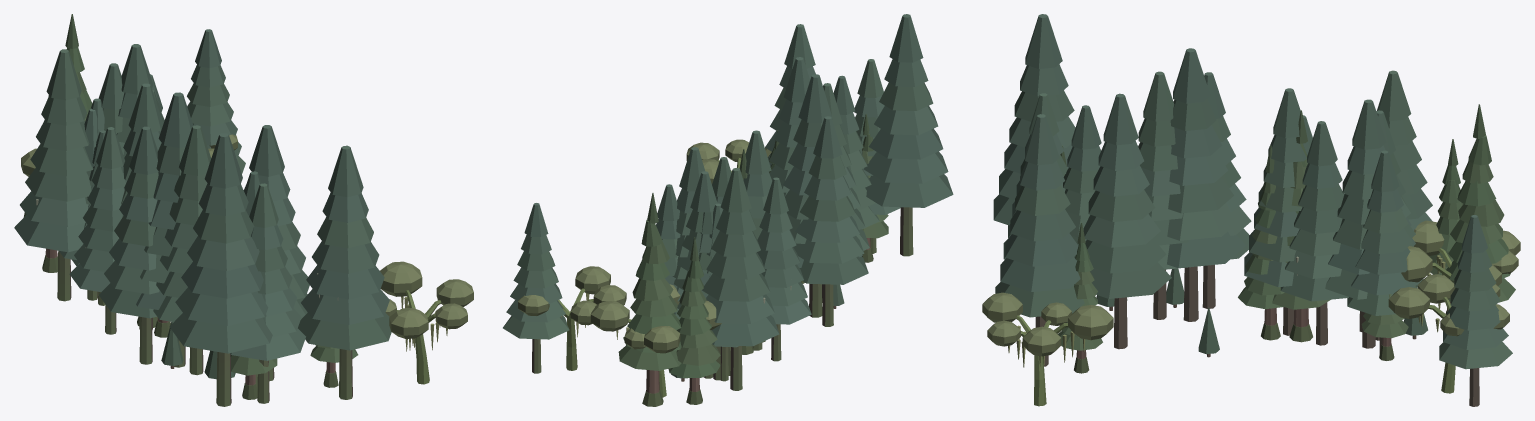
The model's file is Mist_Forest_2_0.fbx.
3 views of the same model, side by side, from view 1: azimuth 30°, elevation 25°; view 2: azimuth 150°, elevation 25°; view 3: azimuth 270°, elevation 25° (orthographic). The views are drawn at different scales.
Parts seen in each view (by area): view 1: Mist_Forest_2_0; view 2: Mist_Forest_2_0; view 3: Mist_Forest_2_0.
Part boxes in pixels (x1,y1,x2,y2): Mist_Forest_2_0: (14,14,473,406); Mist_Forest_2_0: (503,14,953,406); Mist_Forest_2_0: (982,14,1520,406).
Size of the model in its own units: 28.06 by 27.06 by 44.72.
